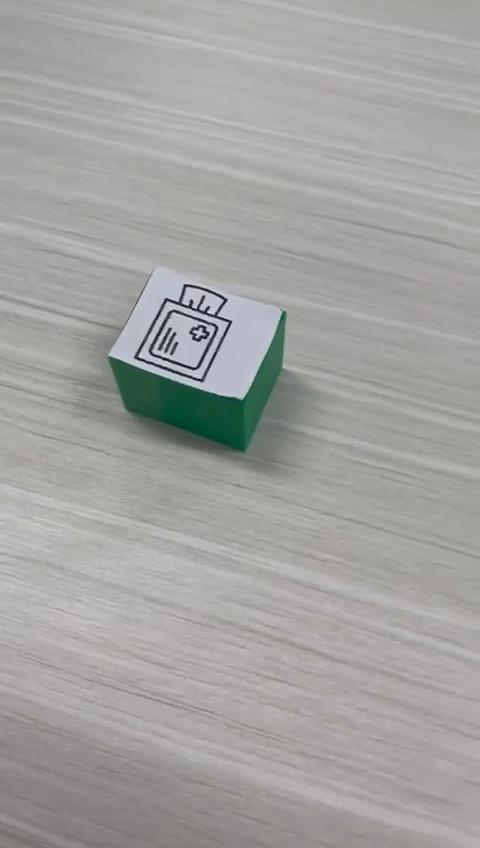Gauze: (106, 264, 287, 453)
